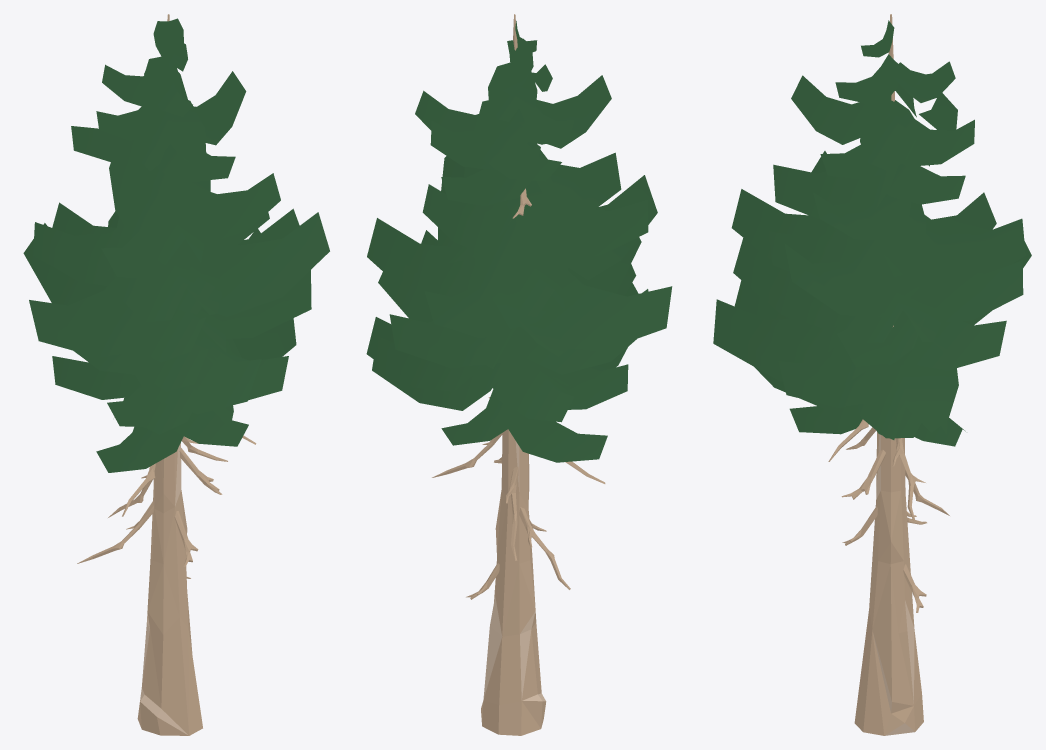
The model's file is pine-3.glb.
3 renders of one model, left to right at view 1: azimuth 30°, elevation 25°; view 2: azimuth 150°, elevation 25°; view 3: azimuth 270°, elevation 25°, orthographic.
Parts seen in each view (by area): view 1: Node; view 2: Node; view 3: Node.
Boxes of the visible parts, x1=… form: Node: x1=23, y1=14, x2=329, y2=735; Node: x1=366, y1=14, x2=672, y2=735; Node: x1=713, y1=14, x2=1031, y2=735.
Bounding box in the file's own units: 5.8 × 13.63 × 5.6.
